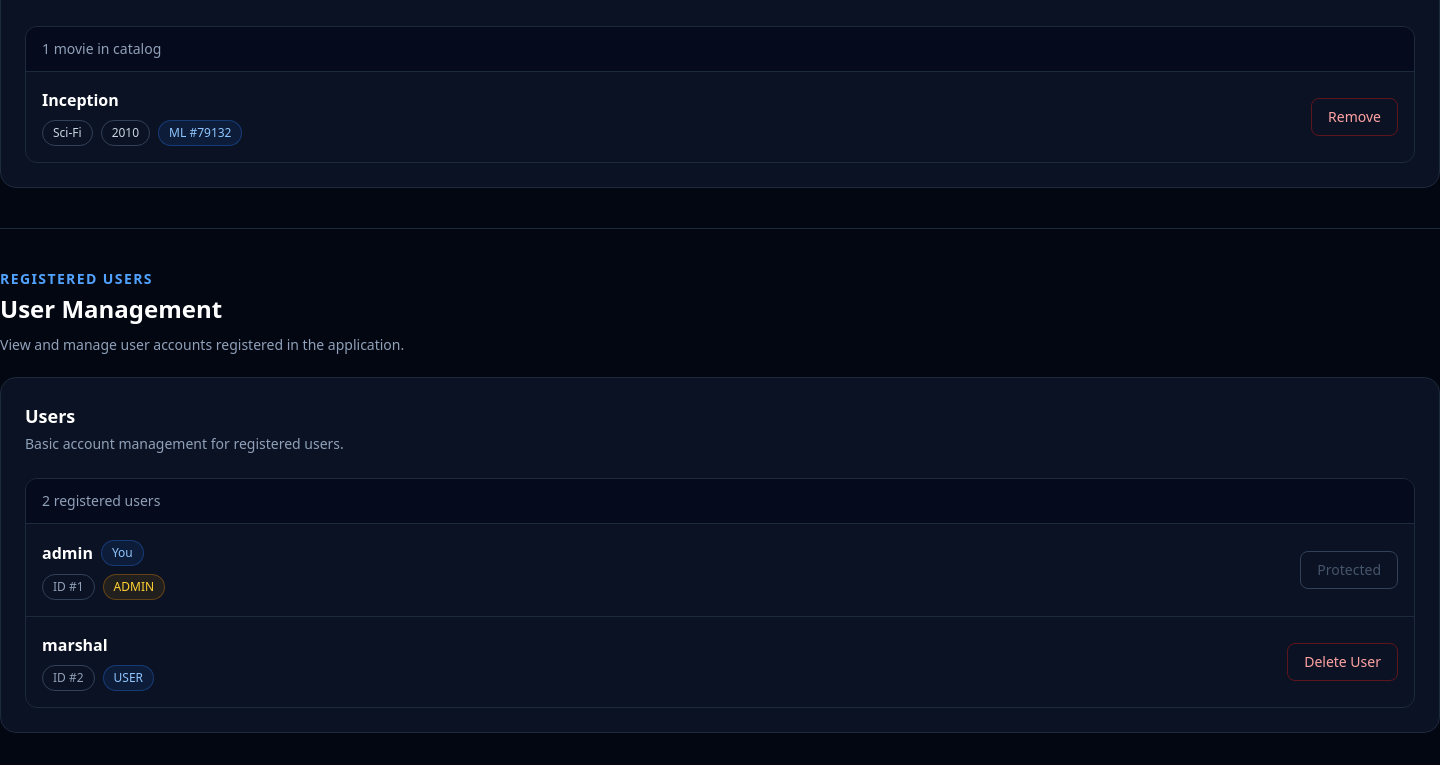
Test: AdminDashboard › shows user deletion error returned by backend
This screenshot has width=1440, height=765.
(page scrolled)
Expected: the heading "marshal" is shown, [42, 633, 108, 657]
Step 1. Click the button "Delete User" → (1343, 662), box [1287, 643, 1398, 681]
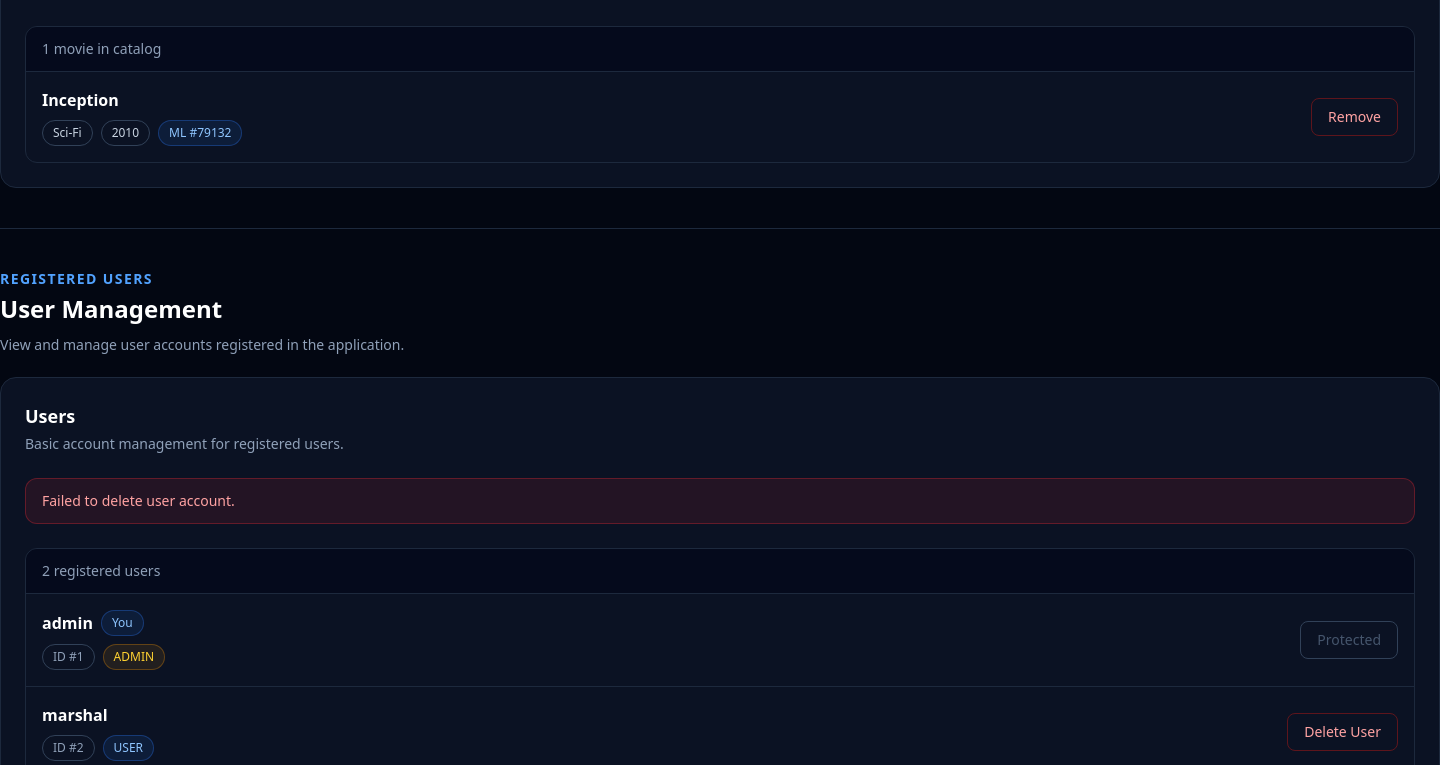
Expected: the heading "marshal" is shown, [42, 703, 108, 727]
Expected: the text "Failed to delete user account." is shown, [42, 491, 235, 510]
